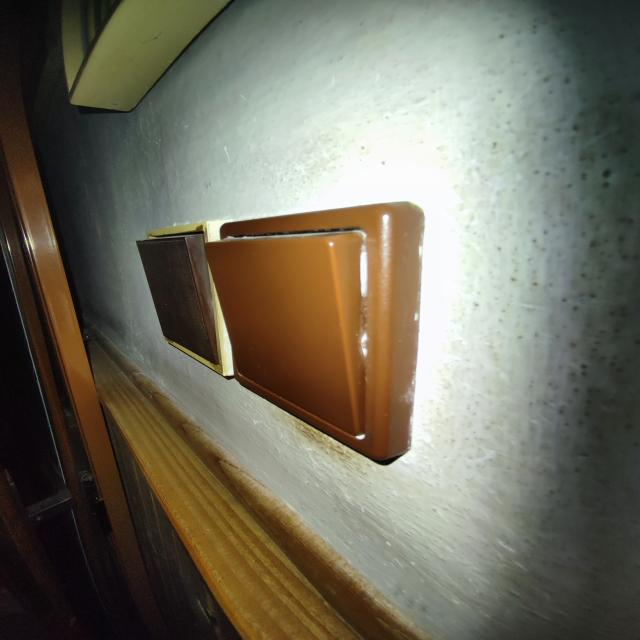house switch: (204, 201, 425, 460), (136, 219, 234, 377)
